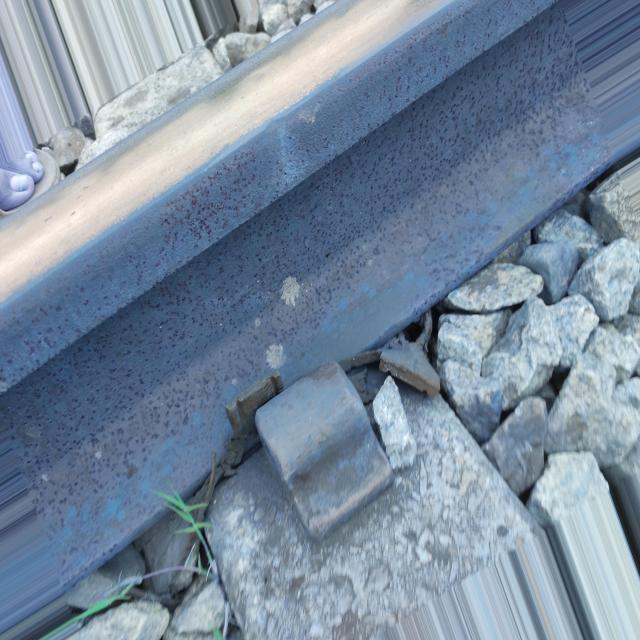Missing Fastener: (238, 344, 412, 546)
